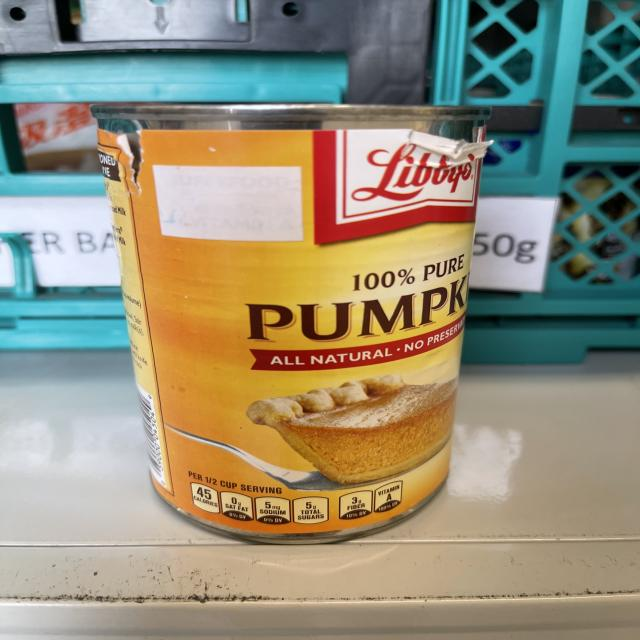object_name: (106, 109, 461, 530)
